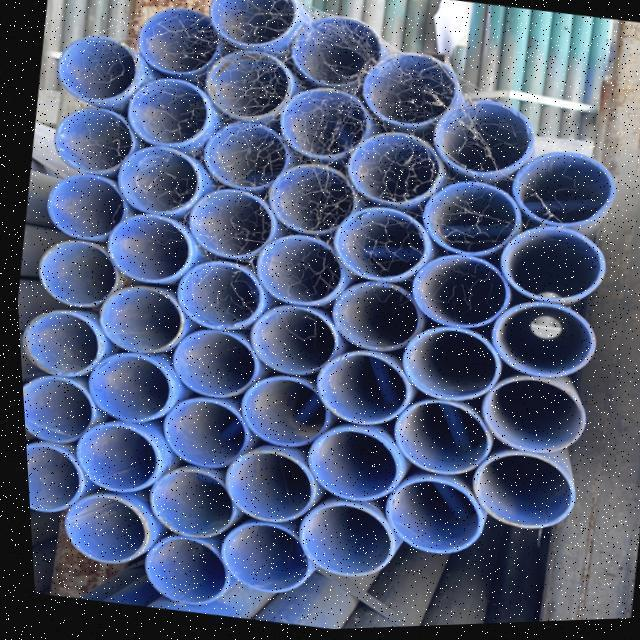pipe: (431, 94, 531, 183), (463, 453, 569, 535), (473, 379, 583, 457), (500, 234, 604, 315), (513, 157, 614, 239), (385, 403, 487, 482), (373, 479, 476, 557), (208, 514, 304, 597), (289, 500, 387, 581), (289, 10, 382, 95), (488, 307, 592, 382), (344, 133, 444, 211), (307, 349, 405, 428), (395, 328, 496, 404), (356, 52, 454, 130), (211, 451, 309, 529), (300, 427, 394, 507), (405, 261, 505, 336), (328, 210, 427, 285), (419, 186, 514, 262), (139, 466, 230, 542), (276, 90, 369, 163), (81, 351, 172, 425), (326, 282, 416, 356), (232, 377, 322, 451), (263, 168, 355, 240), (245, 305, 334, 379), (181, 191, 271, 264), (155, 399, 241, 475), (253, 236, 340, 310), (205, 54, 293, 127), (167, 330, 255, 403), (95, 285, 181, 359), (174, 265, 261, 338), (101, 216, 190, 286), (71, 422, 154, 496), (133, 531, 216, 605), (201, 128, 289, 195), (114, 148, 199, 217), (138, 11, 224, 79), (59, 493, 140, 564), (128, 82, 211, 151), (54, 37, 136, 104), (50, 108, 132, 175), (32, 239, 111, 307), (44, 175, 125, 241), (15, 310, 91, 378), (18, 380, 86, 450), (206, 0, 300, 49), (21, 443, 71, 515)
